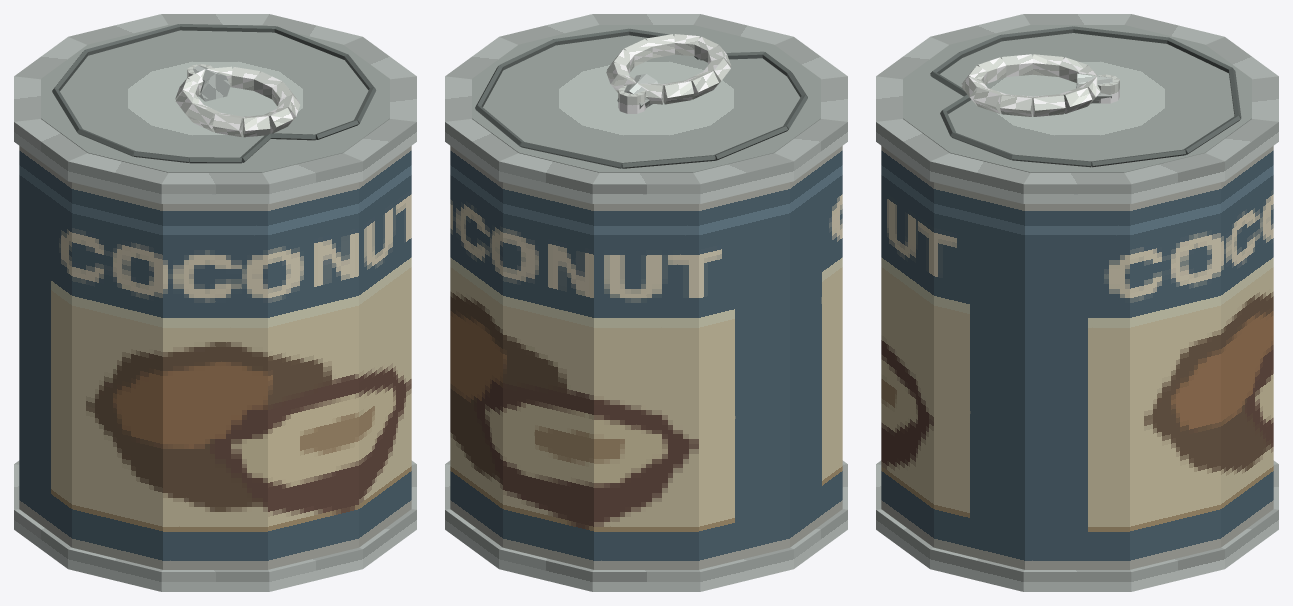
Rendered from can_coconut.glb.
The picture shows the model from 3 angles, left to right: view 1: azimuth 30°, elevation 25°; view 2: azimuth 150°, elevation 25°; view 3: azimuth 270°, elevation 25°; orthographic projection.
Parts seen in each view (by area): view 1: block_illustrated wraparound can label, block_recessed easy-open panel, block_rolled steel top, block_rolled steel base, block_pull tab hinge, block_scored lid opening 3, block_scored lid opening 4, block_raised metal pull ring 4, block_raised metal pull ring 3, block_scored lid opening 5, block_raised metal pull ring 5; view 2: block_illustrated wraparound can label, block_recessed easy-open panel, block_rolled steel top, block_rolled steel base, block_scored lid opening 3, block_raised metal pull ring 7, block_scored lid opening 2, block_pull tab rivet, block_raised metal pull ring 6, block_scored lid opening 7, block_scored lid opening 1; view 3: block_illustrated wraparound can label, block_recessed easy-open panel, block_rolled steel top, block_rolled steel base, block_scored lid opening 1, block_raised metal pull ring 0, block_raised metal pull ring 11, block_scored lid opening 5, block_raised metal pull ring 5, block_raised metal pull ring 6, block_raised metal pull ring 10, block_raised metal pull ring 1 (+1 smaller).
Boxes of the visible parts, <box> form: block_illustrated wraparound can label: <box>19,146,411,569</box>; block_recessed easy-open panel: <box>41,25,389,172</box>; block_rolled steel top: <box>14,14,416,203</box>; block_rolled steel base: <box>14,460,416,591</box>; block_pull tab hinge: <box>187,65,230,101</box>; block_scored lid opening 3: <box>85,24,179,55</box>; block_scored lid opening 4: <box>179,24,275,32</box>; block_raised metal pull ring 4: <box>212,113,243,137</box>; block_raised metal pull ring 3: <box>243,115,270,137</box>; block_scored lid opening 5: <box>274,26,347,59</box>; block_raised metal pull ring 5: <box>187,104,220,132</box>; block_illustrated wraparound can label: <box>450,146,842,569</box>; block_recessed easy-open panel: <box>472,25,820,172</box>; block_rolled steel top: <box>445,14,847,203</box>; block_rolled steel base: <box>445,460,847,591</box>; block_scored lid opening 3: <box>521,142,621,168</box>; block_raised metal pull ring 7: <box>663,80,693,104</box>; block_scored lid opening 2: <box>622,155,715,168</box>; block_pull tab rivet: <box>618,85,646,113</box>; block_raised metal pull ring 6: <box>685,71,718,99</box>; block_scored lid opening 7: <box>553,28,629,45</box>; block_scored lid opening 1: <box>714,126,787,160</box>; block_illustrated wraparound can label: <box>881,146,1273,569</box>; block_recessed easy-open panel: <box>903,25,1251,172</box>; block_rolled steel top: <box>876,14,1278,203</box>; block_rolled steel base: <box>876,460,1278,591</box>; block_scored lid opening 1: <box>1073,26,1168,43</box>; block_raised metal pull ring 0: <box>1000,94,1032,116</box>; block_raised metal pull ring 11: <box>1033,94,1065,116</box>; block_scored lid opening 5: <box>1091,149,1185,167</box>; block_raised metal pull ring 5: <box>1001,54,1032,76</box>; block_raised metal pull ring 6: <box>1033,54,1064,76</box>; block_raised metal pull ring 10: <box>1059,87,1092,113</box>; block_raised metal pull ring 1: <box>973,87,1005,113</box>.
Size of the model in its own units: 0.07 by 0.083 by 0.07.
1 material, 1 textured.
